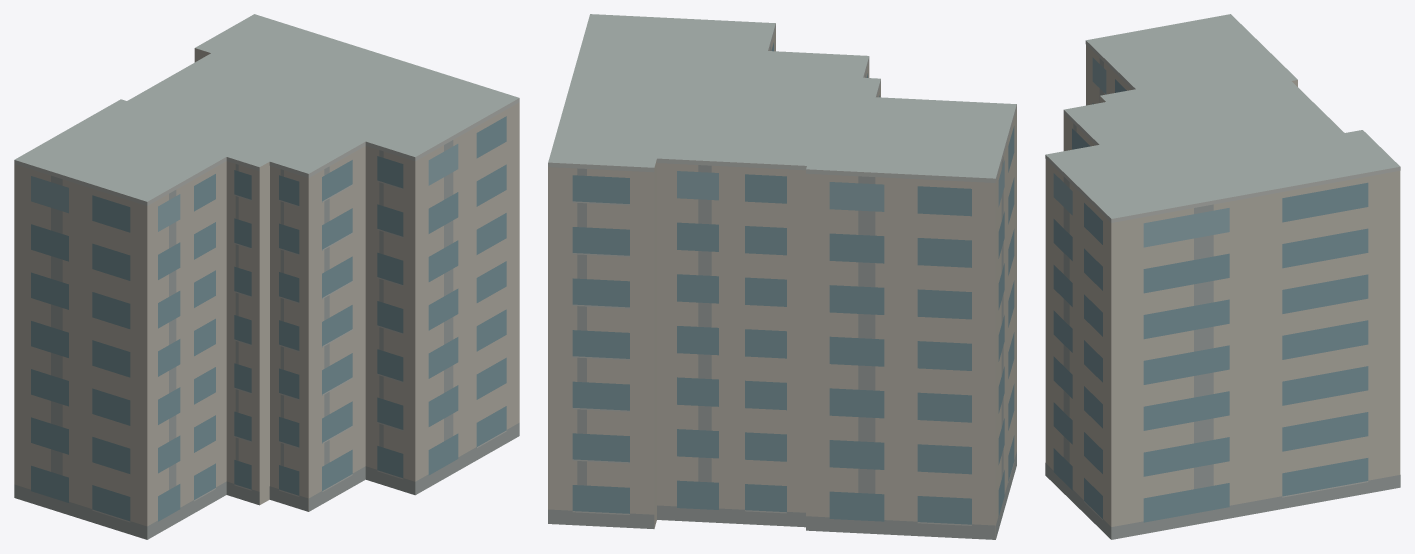
File: survey-upis-32602580.glb
The picture shows the model from 3 angles, left to right: view 1: azimuth 30°, elevation 25°; view 2: azimuth 150°, elevation 25°; view 3: azimuth 270°, elevation 25°; orthographic projection. The views are drawn at different scales.
Parts seen in each view (by area): view 1: survey-upis-32602580.tmp; view 2: survey-upis-32602580.tmp; view 3: survey-upis-32602580.tmp.
Part boxes in pixels (x1,y1,x2,y2): survey-upis-32602580.tmp: [14, 14, 519, 539]; survey-upis-32602580.tmp: [548, 14, 1016, 539]; survey-upis-32602580.tmp: [1045, 14, 1400, 539].
Bounding box in the file's own units: 27.13 × 19.8 × 19.86.
